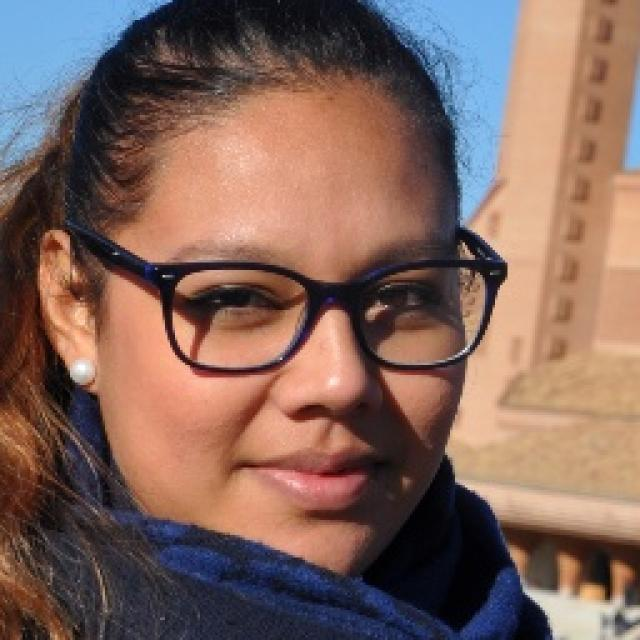earlobe: (36, 229, 100, 393)
